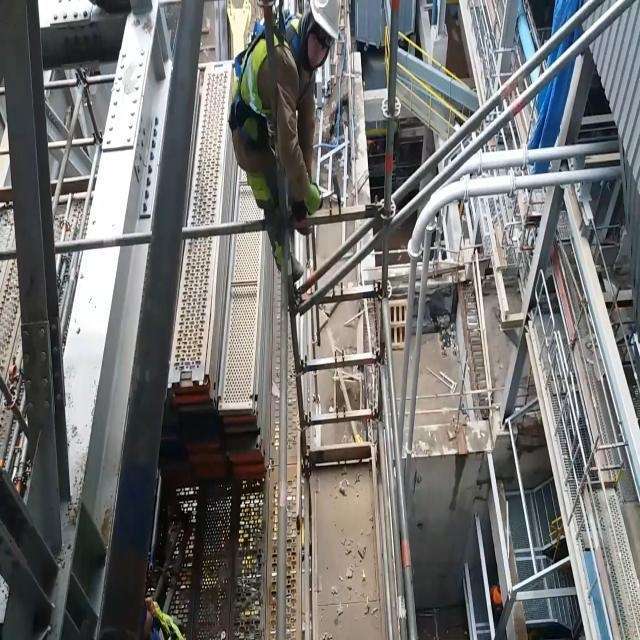Arnes_seguridad: (218, 13, 303, 164)
